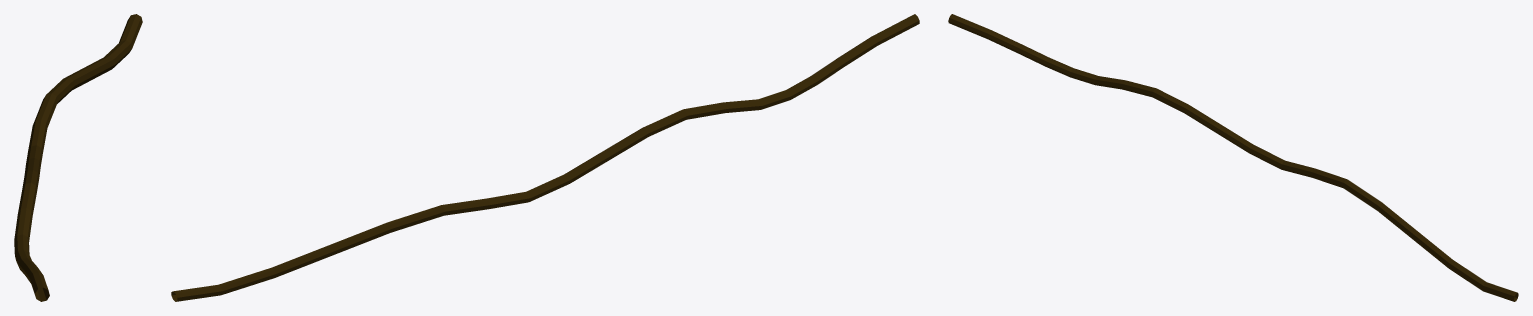
File: Konar.fbx
The picture shows the model from 3 angles, left to right: view 1: azimuth 90°, elevation 25°; view 2: azimuth 210°, elevation 25°; view 3: azimuth 330°, elevation 25°; orthographic projection. The views are drawn at different scales.
Parts seen in each view (by area): view 1: BezierCurve.006; view 2: BezierCurve.006; view 3: BezierCurve.006.
Boxes of the visible parts, x1,y1,x2,y2 form: BezierCurve.006: (14,14,142,301); BezierCurve.006: (171,14,919,301); BezierCurve.006: (948,14,1518,301).
Size of the model in its own units: 16.14 by 3.1 by 1.98.
